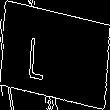L_N: (45, 28, 65, 82)
